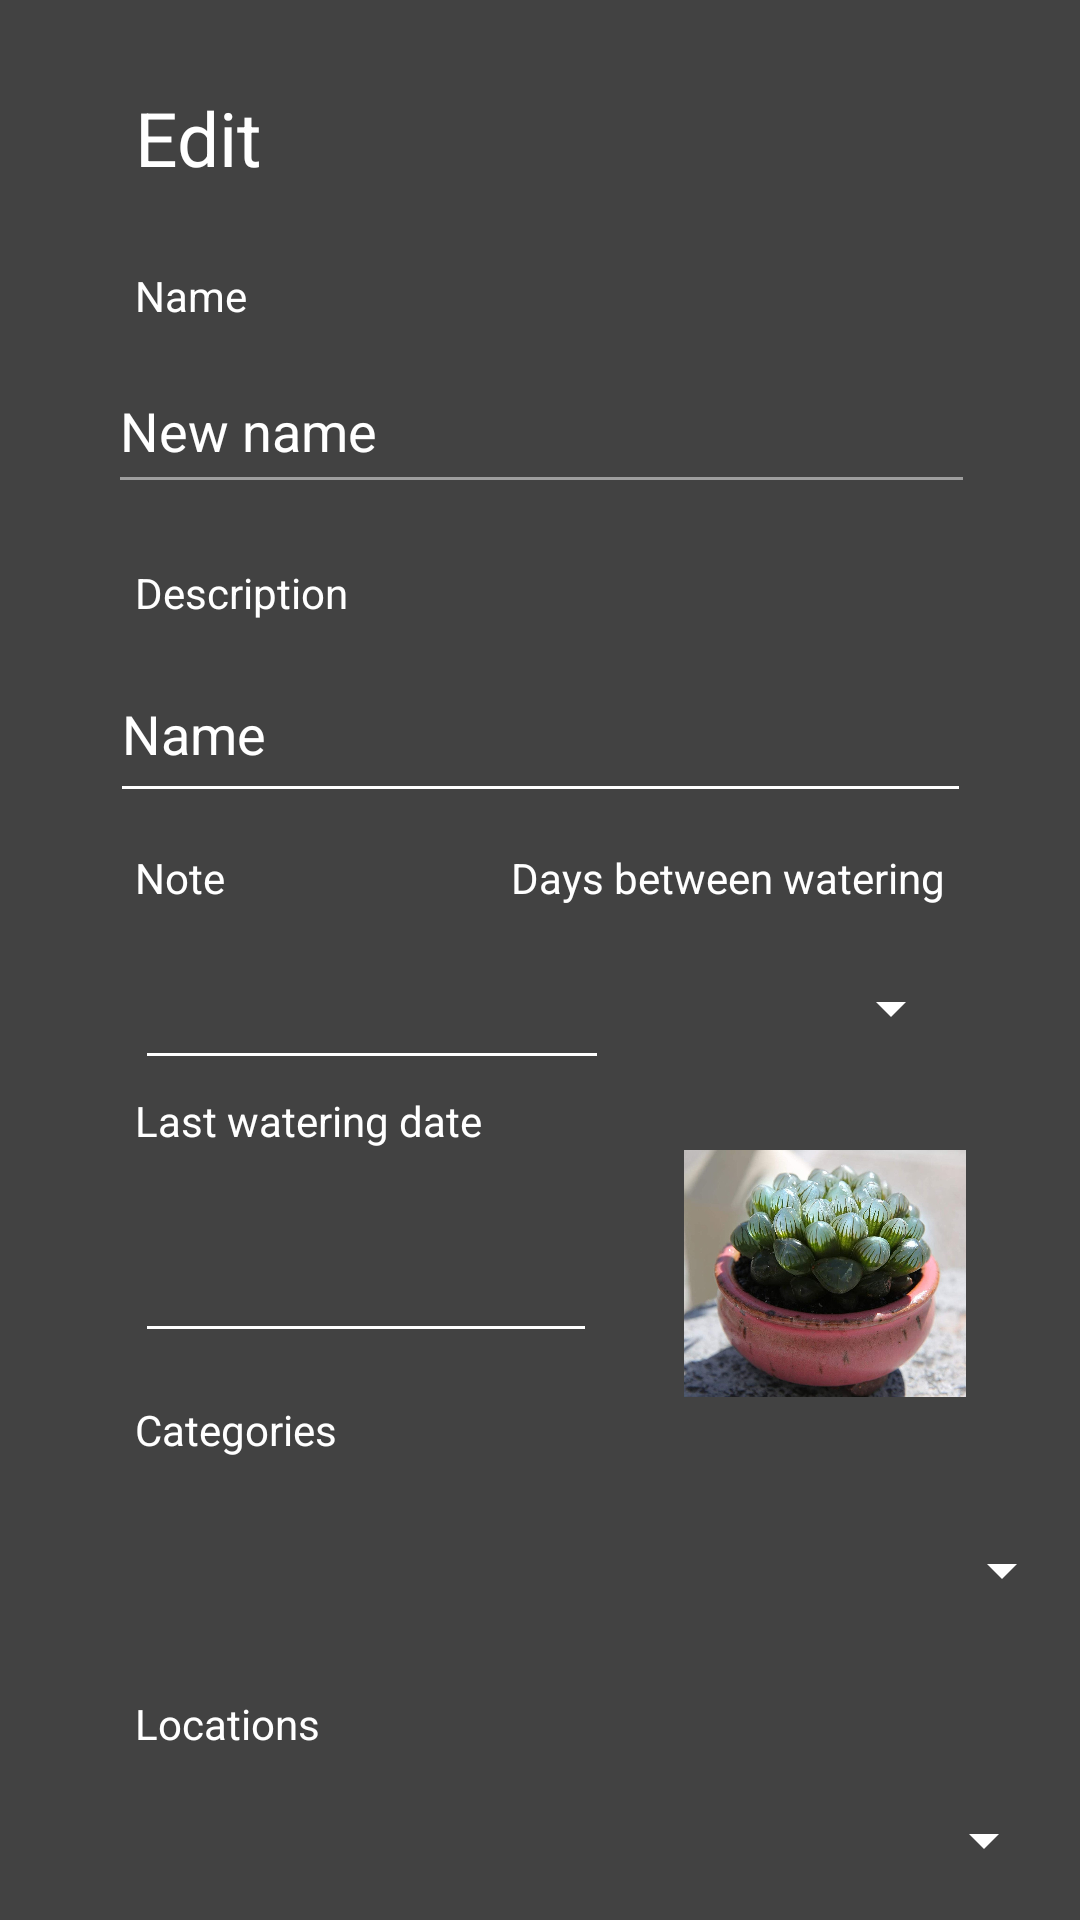

Where to tap for icons on this 1080px×1920px app screen, as (x=x, y=y):
flower: (x=825, y=1273)
